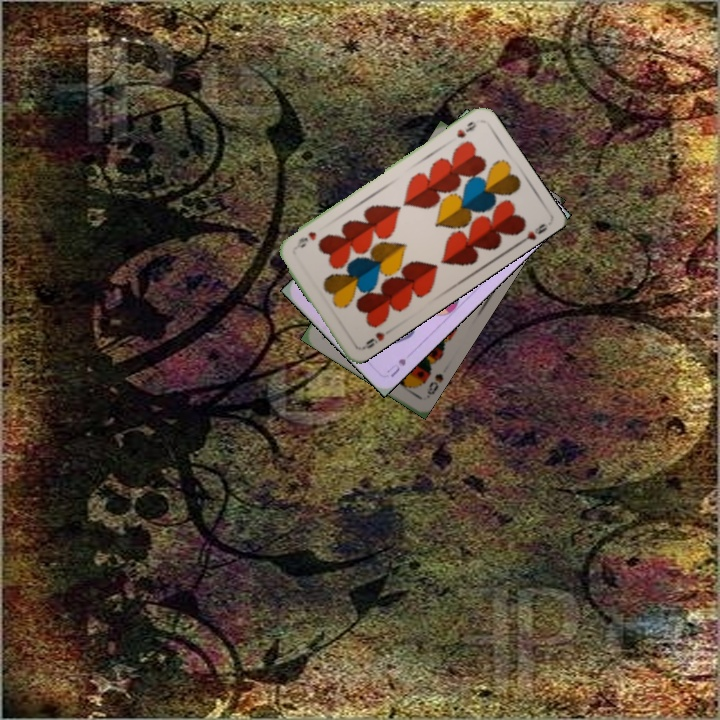H9: (358, 328, 387, 352), (452, 117, 479, 141)
S8: (422, 369, 446, 401)
SU: (383, 354, 409, 380)
